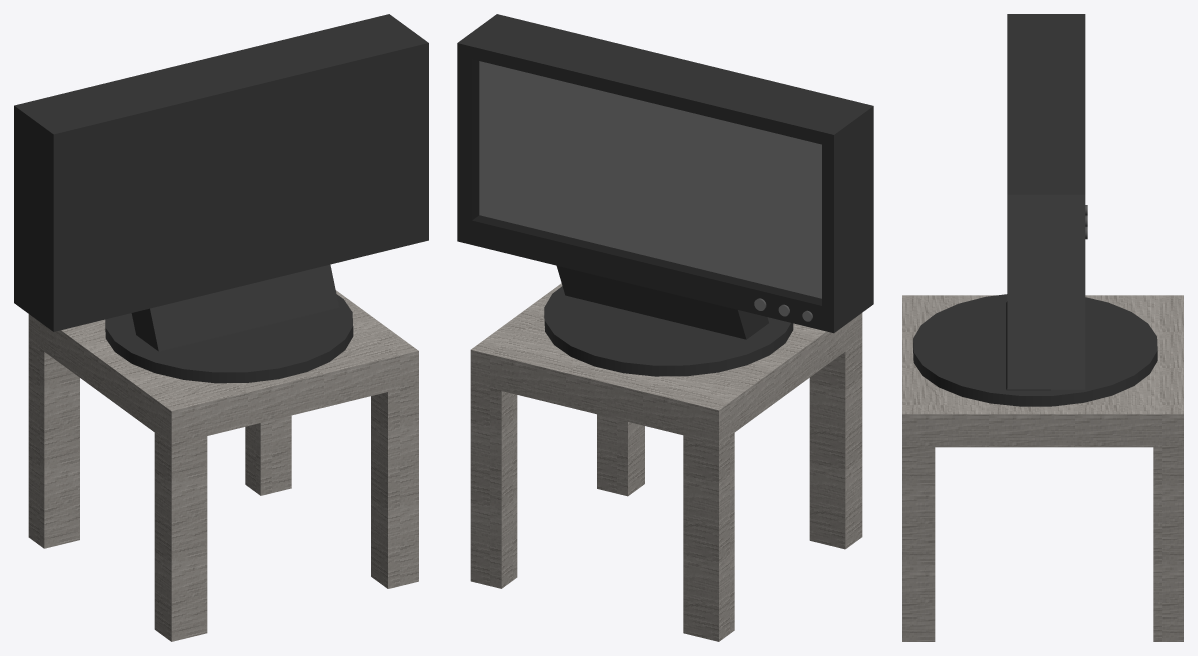
File: coletv.dae
3 renders of one model, left to right at view 1: azimuth 30°, elevation 25°; view 2: azimuth 150°, elevation 25°; view 3: azimuth 270°, elevation 25°, orthographic.
Parts seen in each view (by area): view 1: SketchUp (×4); view 2: SketchUp (×6); view 3: SketchUp (×4).
Part boxes in pixels (<box>): SketchUp (×4): <box>14,14,428,641</box>; SketchUp (×6): <box>457,14,873,641</box>; SketchUp (×4): <box>902,14,1183,641</box>.
Size of the model in its own units: 59.25 by 39.06 by 73.06.
7 materials, 1 textured.
